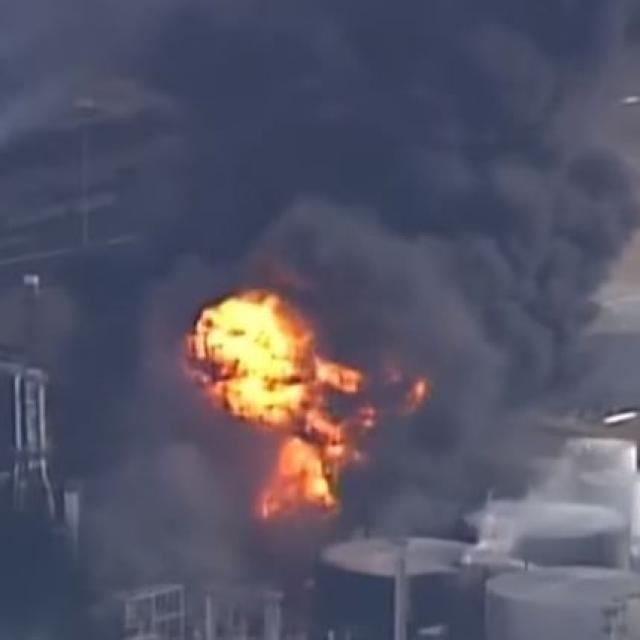Fire: (188, 306, 364, 500)
Smoke: (0, 0, 621, 631)
